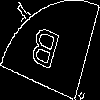B: (25, 25, 62, 80)
